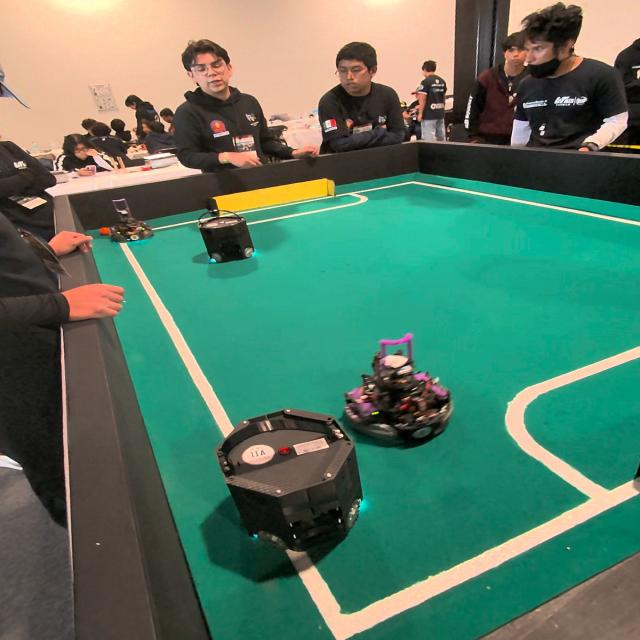Robot: (208, 403, 362, 574), (347, 346, 456, 452), (193, 195, 260, 277), (110, 199, 154, 247)
